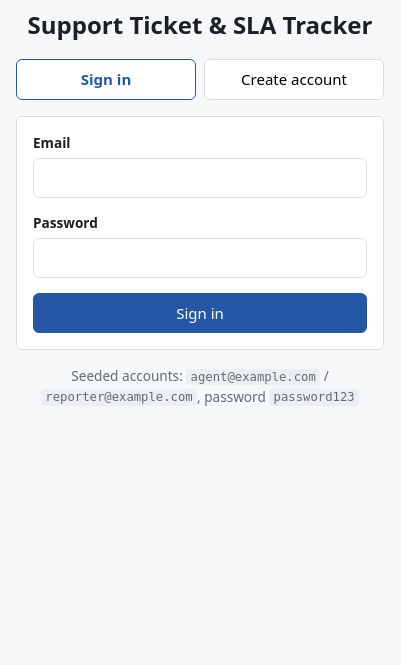
Test: create account › places a server field error next to the offending input
Click the tab "Create account" at point(294, 79), box x1=204 y1=59 x2=384 y2=100
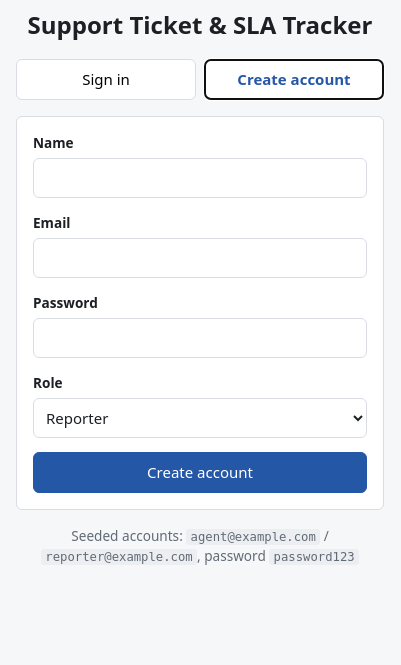
Type "Sam" into the field labelled "Name" at point(200, 178), box x1=33 y1=158 x2=367 y2=198
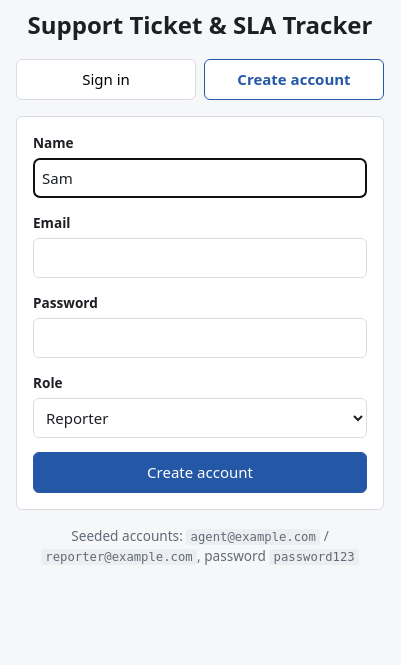
Type "sam@example.com" into the field labelled "Email" at point(200, 258), box x1=33 y1=238 x2=367 y2=278
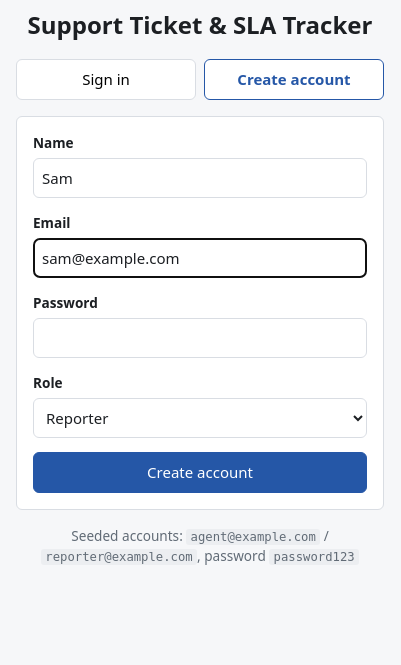
Type "abcd" into the password field labelled "Password" at point(200, 338), box x1=33 y1=318 x2=367 y2=358
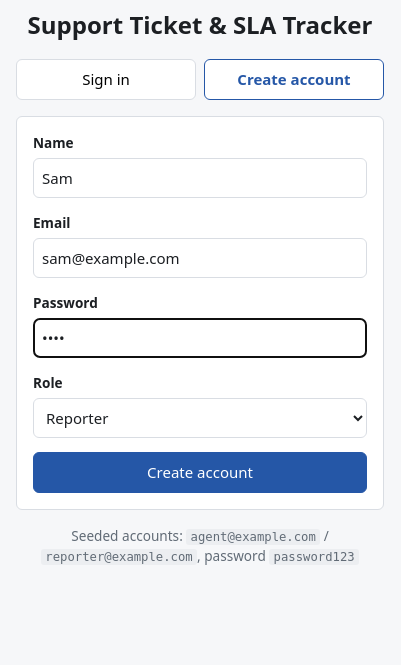
Click the button "Create account" at point(200, 473), box x1=33 y1=452 x2=367 y2=493
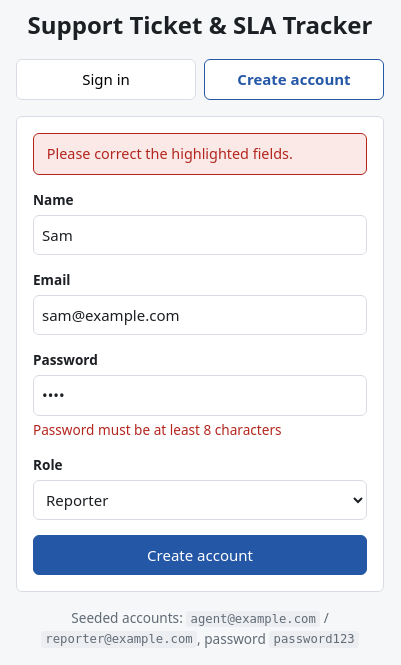
Result: the text "Password must be at least 8 characters" is shown at x1=33 y1=420 x2=282 y2=439
Result: the message reads "Please correct the highlighted fields." at x1=47 y1=144 x2=293 y2=163
